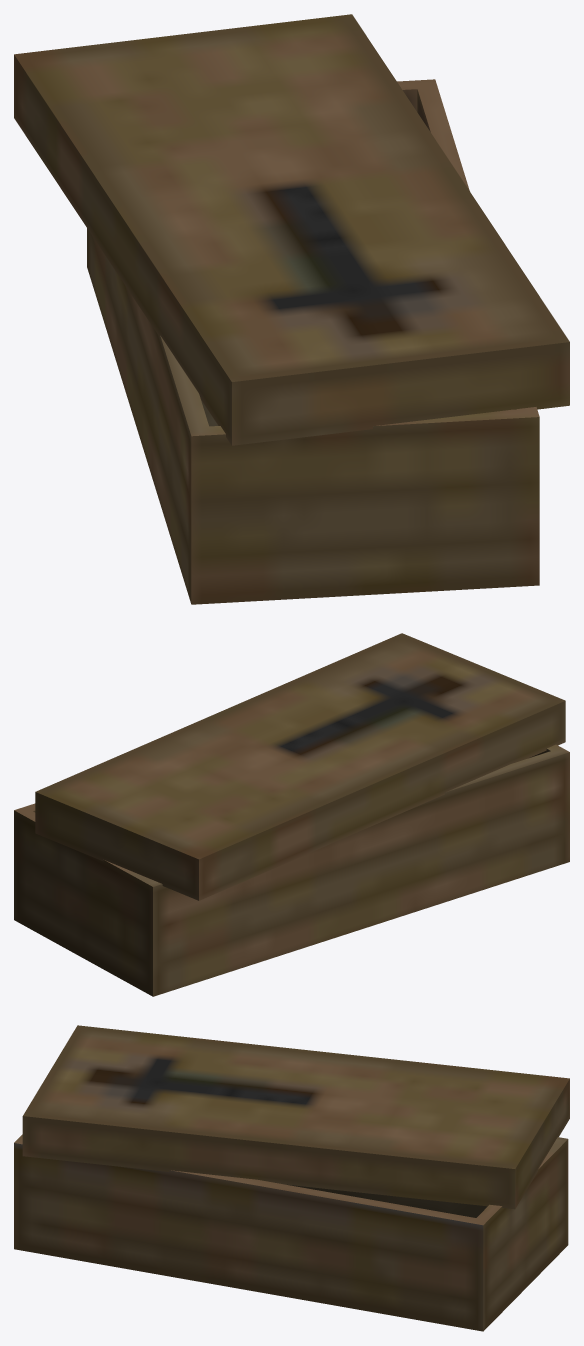
The model's file is coffin_01 (2) #1231619.fbx.
3 renders of one model, top to bottom at view 1: azimuth 30°, elevation 25°; view 2: azimuth 150°, elevation 25°; view 3: azimuth 270°, elevation 25°, orthographic. The views are drawn at different scales.
Parts seen in each view (by area): view 1: coffin_01_cap, coffin_01; view 2: coffin_01_cap, coffin_01; view 3: coffin_01_cap, coffin_01.
Part boxes in pixels (x1,y1,x2,y2): coffin_01_cap: (14,14,569,445); coffin_01: (87,79,539,604); coffin_01_cap: (35,633,565,900); coffin_01: (14,744,569,996); coffin_01_cap: (22,1025,569,1209); coffin_01: (14,1134,568,1331).
Bounding box in the file's own units: 1.92 × 0.7654 × 2.67.
